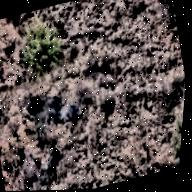boar: (36, 139, 67, 178), (60, 98, 95, 126), (21, 87, 51, 117), (46, 87, 70, 109), (45, 105, 62, 123)
